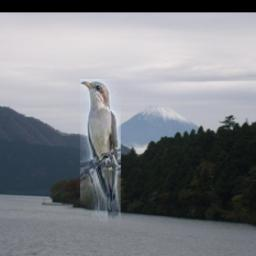Cuckoo: (81, 79, 122, 241)
